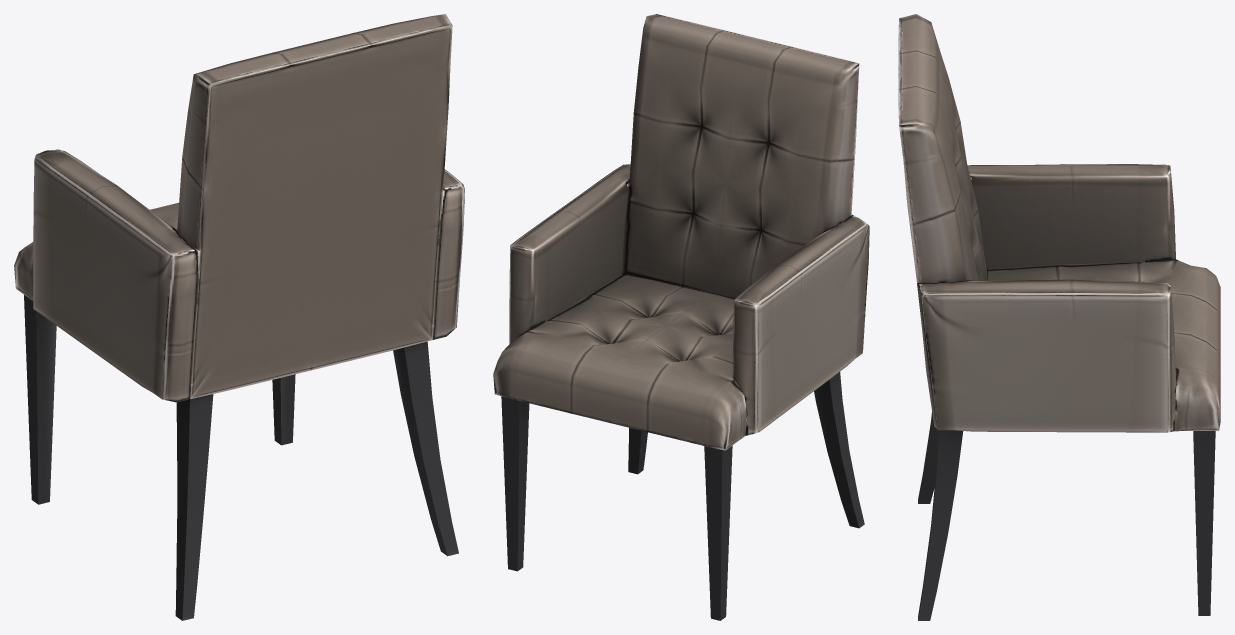
File: Chair03.FBX
The picture shows the model from 3 angles, left to right: view 1: azimuth 30°, elevation 25°; view 2: azimuth 150°, elevation 25°; view 3: azimuth 270°, elevation 25°; orthographic projection. The views are drawn at different scales.
Visible parts, largest first — view 1: Chair03; view 2: Chair03; view 3: Chair03.
Part boxes in pixels (x1,y1,x2,y2): Chair03: (14,14,464,620); Chair03: (493,14,869,620); Chair03: (898,14,1220,620).
Bounding box in the file's own units: 55.92 × 57.47 × 96.72.
